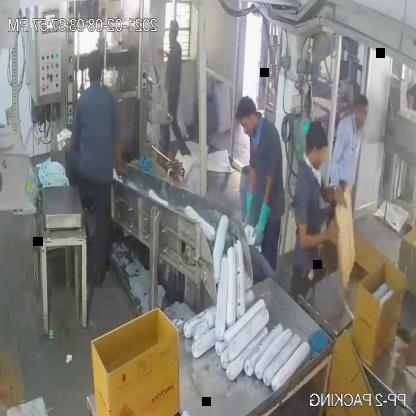glove: (239, 175, 259, 243), (252, 191, 273, 251)
no_glove: (291, 215, 344, 255), (312, 182, 347, 208)
